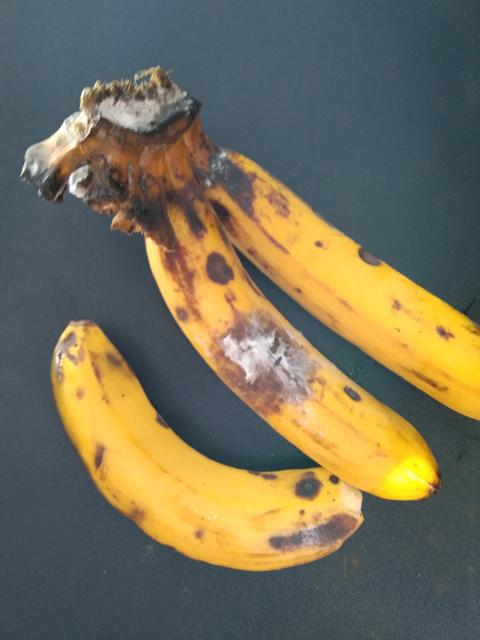overripe: (33, 307, 386, 639), (170, 188, 441, 505), (214, 135, 479, 415)
rotten: (192, 269, 348, 458)
